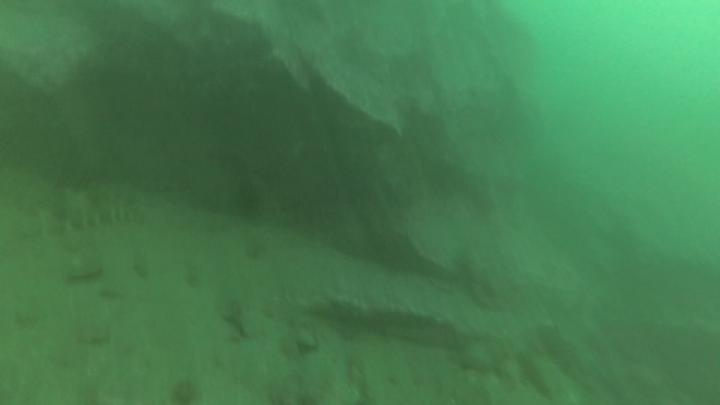holothurian: (3, 177, 146, 239)
